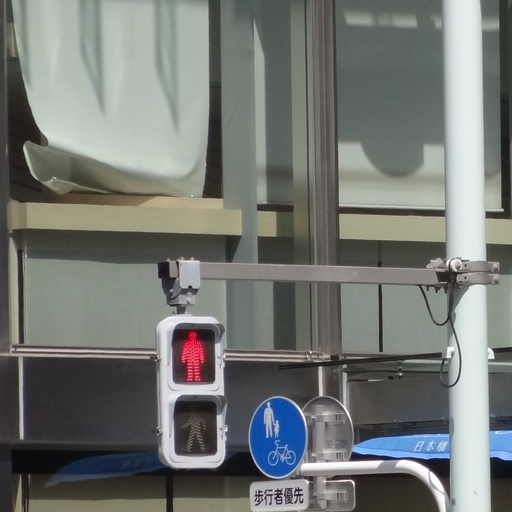Pedestrian_Signal_Red: (154, 307, 230, 463)
